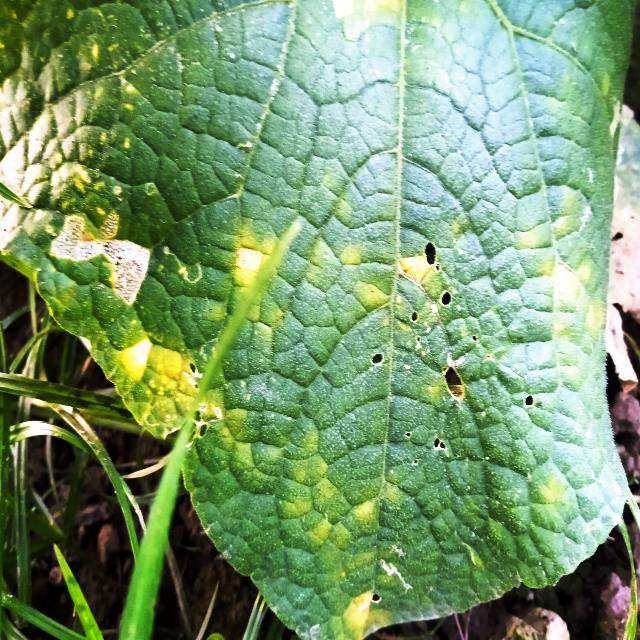Downy-Mildew: (0, 1, 637, 640)
